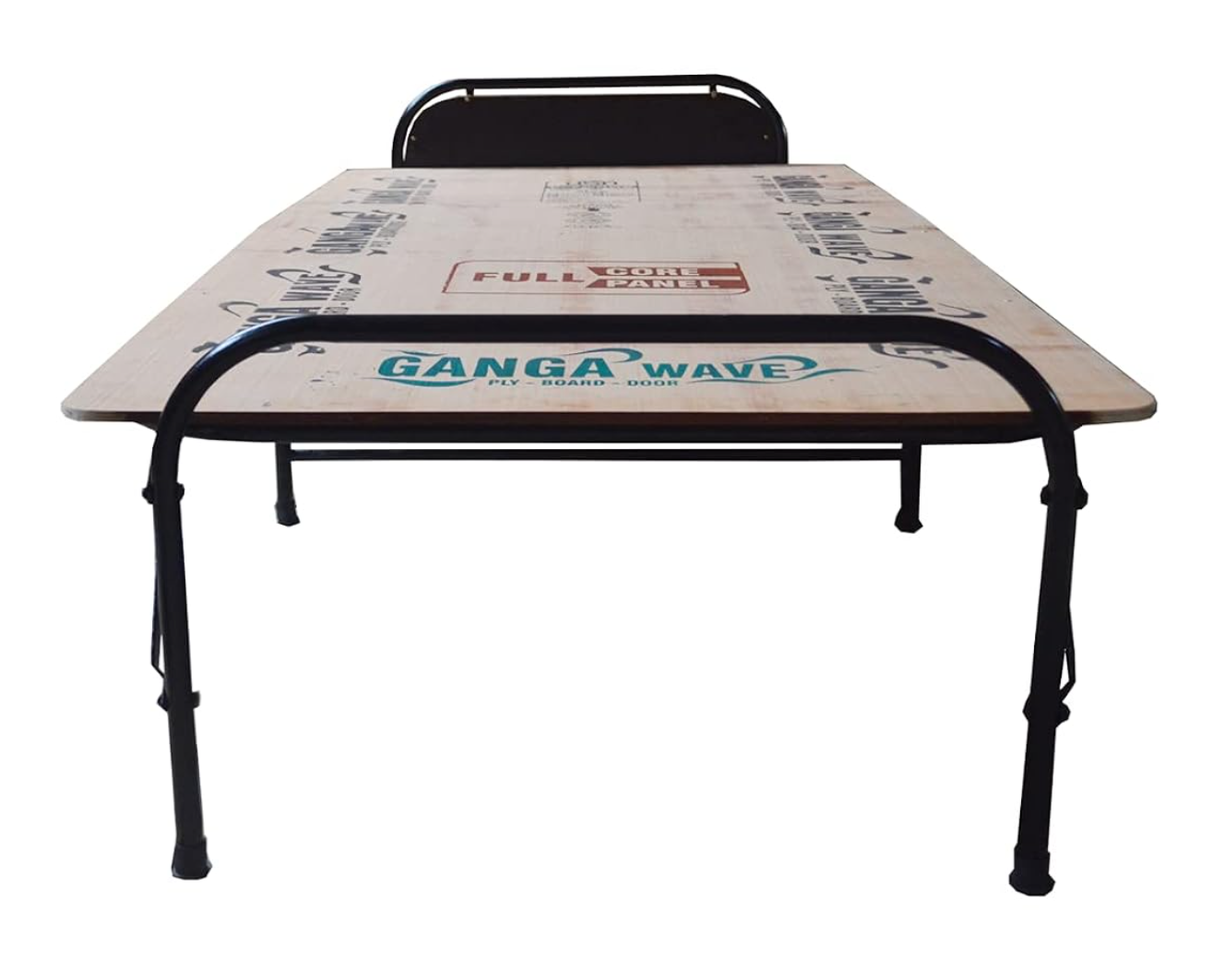cot: (58, 58, 1157, 958)
